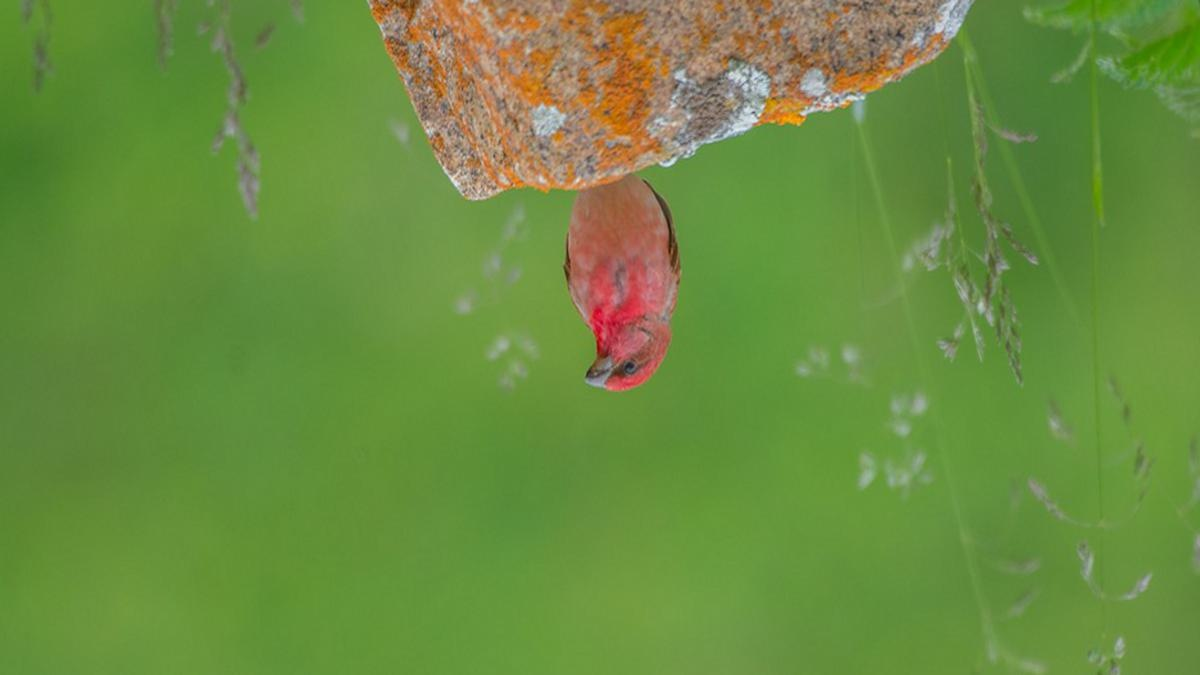rosefinch: (563, 152, 666, 411)
